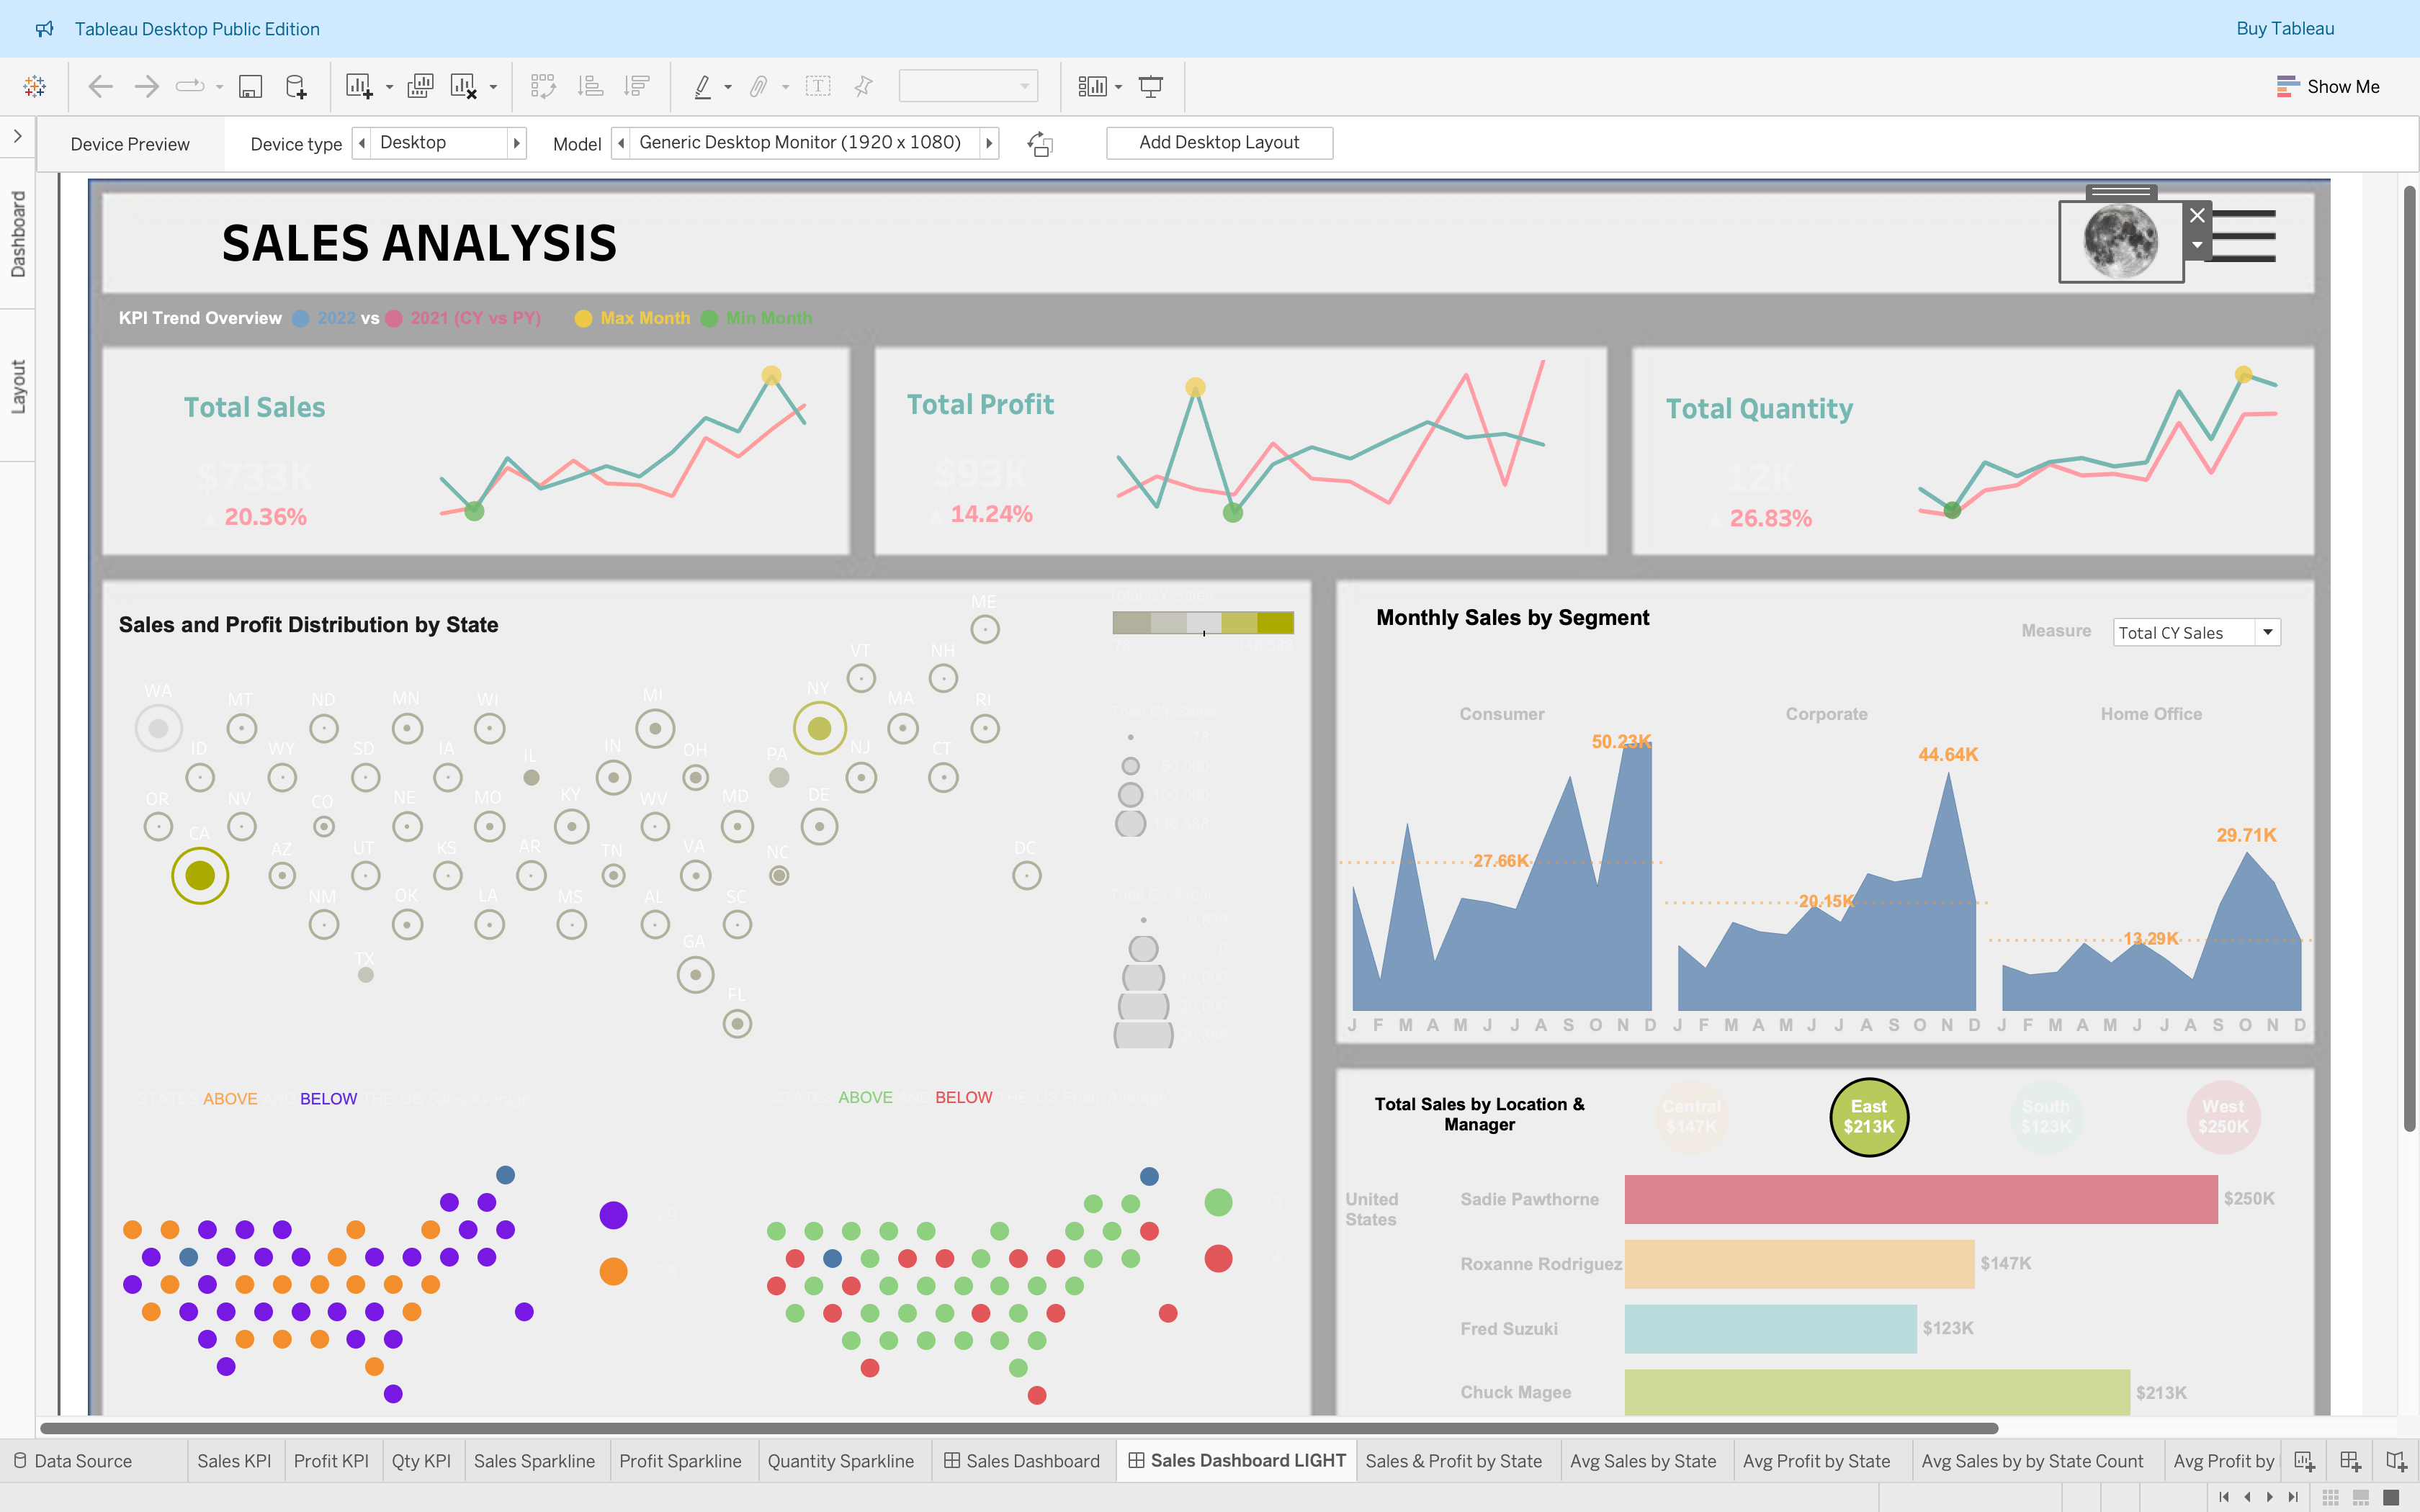

This screenshot's page, from the dashboard's own definition file:
{"tool":"tableau","page":{"name":"Sales Dashboard LIGHT","canvas":[1600,900],"ordinal":1},"visuals":[{"type":"image","param":"Image/Sales Dashboard WHITE.jpg","box":[8,8,1584,884]},{"type":"text","box":[111,23.6,321,62.5]},{"type":"dashboard-object","box":[1475,25,81,54]},{"type":"filter","title":"Sales & Profit by State","param":"[federated.0wn1fz71b0cuob1g45xpf0mys0s8].[none:Category:nk]","box":[1258,29,129,51]},{"type":"dashboard-object","box":[1391,29,84,54]},{"type":"filter","title":"Avg Profit by State ","param":"[federated.0wn1fz71b0cuob1g45xpf0mys0s8].[none:Region:nk]","box":[1258,80,129,50]},{"type":"text","box":[40,94,500,31]},{"type":"filter","title":"Monthly Sales by Segment","param":"[federated.0wn1fz71b0cuob1g45xpf0mys0s8].[none:Ship Mode:nk]","box":[1258,130,129,50]},{"type":"worksheet","title":"Sales KPI","mark":"Automatic","box":[35,133,204,133]},{"type":"worksheet","title":"Sales Sparkline","mark":"Automatic","rows":["Calculation_2378956156523720717"],"cols":["Order Date"],"box":[239,133,306,133]},{"type":"worksheet","title":"Qty KPI","mark":"Automatic","box":[1097,133,169,136]},{"type":"worksheet","title":"Quantity Sparkline","mark":"Automatic","rows":["min max profit (copy)_2378956156551483407"],"cols":["Order Date"],"box":[1266,133,300,136]},{"type":"worksheet","title":"Profit KPI","mark":"Automatic","box":[577,134,128,134]},{"type":"worksheet","title":"Profit Sparkline","mark":"Automatic","rows":["min max sales (copy)_2378956156545818638"],"cols":["Order Date"],"box":[705,134,357,134]},{"type":"worksheet","title":"Sales & Profit by State","mark":"Circle","rows":["Row"],"cols":["Column","Column"],"box":[24,291,689,342]},{"type":"legend","title":"Sales & Profit by State","param":"[federated.0wn1fz71b0cuob1g45xpf0mys0s8].[sum:Calculation_2378956156454031360:qk","box":[729,295,134,76]},{"type":"text","box":[40,301,353,42]},{"type":"text","box":[913,302,253,30]},{"type":"parameter","param":"[Parameters].[Parameter 1]","box":[1352,316,195,22]},{"type":"worksheet","title":"Monthly Sales by Segment","mark":"Area","rows":["Calculation_70720610889687041"],"cols":["Segment","Order Date"],"box":[890,374,677,236]},{"type":"legend","title":"Sales & Profit by State","param":"[federated.0wn1fz71b0cuob1g45xpf0mys0s8].[sum:Calculation_2378956156454031360:qk","box":[731,376,136,106]},{"type":"legend","title":"Sales & Profit by State","param":"[federated.0wn1fz71b0cuob1g45xpf0mys0s8].[sum:Total CY Sales (copy)_237895615648","box":[730,503,137,118]},{"type":"text","box":[53,629,343,45]},{"type":"worksheet","title":"Region-wise Sales","mark":"Circle","cols":["Region"],"box":[1074,632,491,64]},{"type":"text","box":[494,633,322,35]},{"type":"text","box":[897,643,181,39]},{"type":"worksheet","title":"Avg Sales by State","mark":"Circle","rows":["Row"],"cols":["Column"],"box":[32,685,312,190]},{"type":"worksheet","title":"Avg Profit by State ","mark":"Circle","rows":["Row"],"cols":["Column"],"box":[479,686,312,190]},{"type":"worksheet","title":"Total Sales by Location & Manager","mark":"Automatic","rows":["Country/Region","Regional Manager"],"cols":["Calculation_2378956156454031360"],"box":[888,699,677,179]},{"type":"worksheet","title":"Avg Profit by by State Count","mark":"Circle","rows":["Sales Avg Color (copy)_769341502765035526"],"box":[758,703,95,78]},{"type":"worksheet","title":"Avg Sales by by State Count","mark":"Circle","rows":["Calculation_769341502758584323"],"box":[338,712,95,78]}]}

Visuals, with their boxes on the page's 1600x900 design canvas (x1, y1, x2, y2). These are canvas units, not pixel positions in the 2420x1512 screenshot, which may show the page scaled, cropped or inside an application window:
image: <region>8, 8, 1592, 892</region>
text: <region>111, 24, 432, 86</region>
dashboard-object: <region>1475, 25, 1556, 79</region>
"Sales & Profit by State" filter: <region>1258, 29, 1387, 80</region>
dashboard-object: <region>1391, 29, 1475, 83</region>
"Avg Profit by State " filter: <region>1258, 80, 1387, 130</region>
text: <region>40, 94, 540, 125</region>
"Monthly Sales by Segment" filter: <region>1258, 130, 1387, 180</region>
"Sales KPI" worksheet: <region>35, 133, 239, 266</region>
"Sales Sparkline" worksheet: <region>239, 133, 545, 266</region>
"Qty KPI" worksheet: <region>1097, 133, 1266, 269</region>
"Quantity Sparkline" worksheet: <region>1266, 133, 1566, 269</region>
"Profit KPI" worksheet: <region>577, 134, 705, 268</region>
"Profit Sparkline" worksheet: <region>705, 134, 1062, 268</region>
"Sales & Profit by State" worksheet (Circle marks): <region>24, 291, 713, 633</region>
"Sales & Profit by State" legend: <region>729, 295, 863, 371</region>
text: <region>40, 301, 393, 343</region>
text: <region>913, 302, 1166, 332</region>
parameter: <region>1352, 316, 1547, 338</region>
"Monthly Sales by Segment" worksheet (Area marks): <region>890, 374, 1567, 610</region>
"Sales & Profit by State" legend: <region>731, 376, 867, 482</region>
"Sales & Profit by State" legend: <region>730, 503, 867, 621</region>
text: <region>53, 629, 396, 674</region>
"Region-wise Sales" worksheet (Circle marks): <region>1074, 632, 1565, 696</region>
text: <region>494, 633, 816, 668</region>
text: <region>897, 643, 1078, 682</region>
"Avg Sales by State" worksheet (Circle marks): <region>32, 685, 344, 875</region>
"Avg Profit by State " worksheet (Circle marks): <region>479, 686, 791, 876</region>
"Total Sales by Location & Manager" worksheet: <region>888, 699, 1565, 878</region>
"Avg Profit by by State Count" worksheet (Circle marks): <region>758, 703, 853, 781</region>
"Avg Sales by by State Count" worksheet (Circle marks): <region>338, 712, 433, 790</region>
